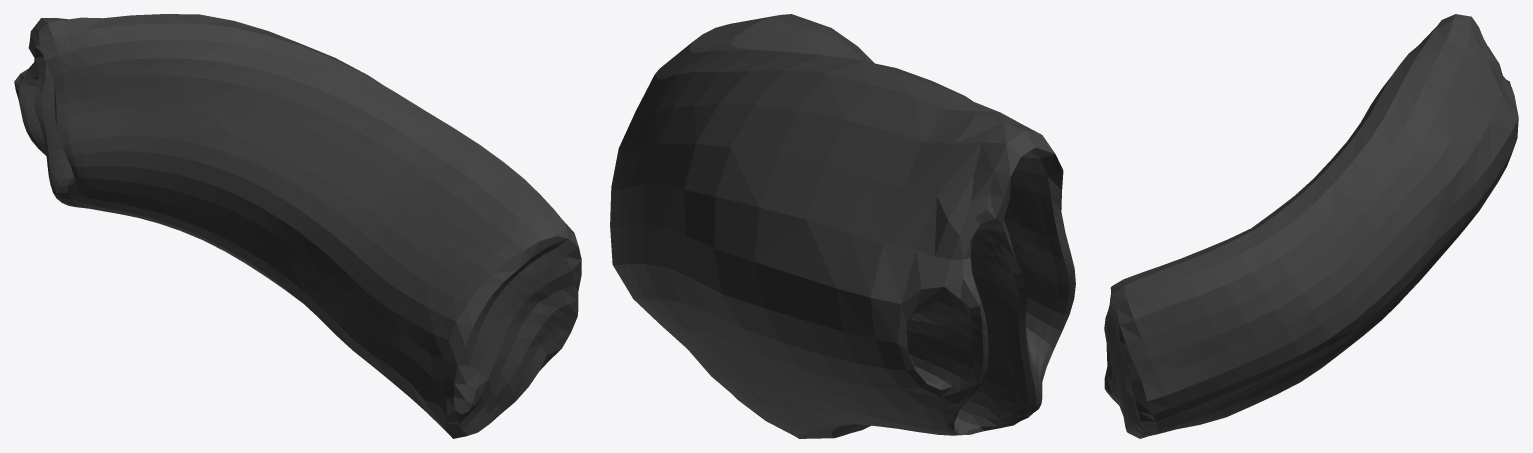
Rendered from chin_skull_L_014.glb.
The picture shows the model from 3 angles, left to right: view 1: azimuth 30°, elevation 25°; view 2: azimuth 150°, elevation 25°; view 3: azimuth 270°, elevation 25°; orthographic projection. The views are drawn at different scales.
Visible parts, largest first — view 1: chin_skull_L_014; view 2: chin_skull_L_014; view 3: chin_skull_L_014.
Part boxes in pixels (x1,y1,x2,y2): chin_skull_L_014: [14, 14, 581, 438]; chin_skull_L_014: [610, 14, 1075, 438]; chin_skull_L_014: [1104, 14, 1518, 438].
Bounding box in the file's own units: 0.2609 × 0.2308 × 0.2755.
1 material, 1 textured.
